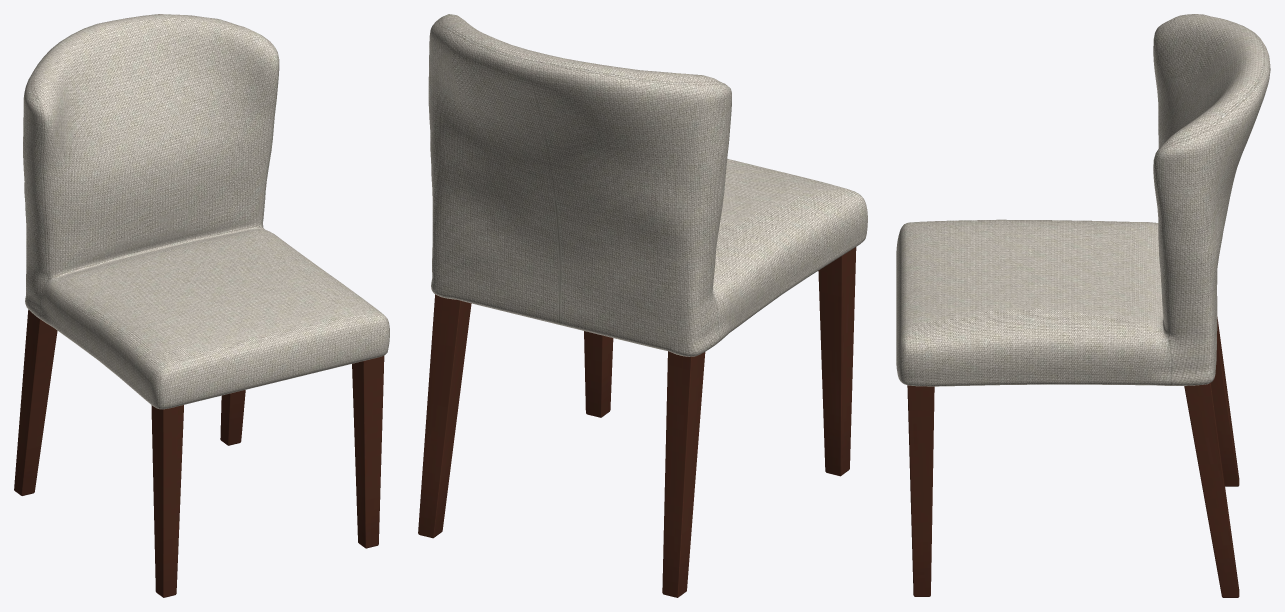
3 views of the same model, side by side, from view 1: azimuth 30°, elevation 25°; view 2: azimuth 150°, elevation 25°; view 3: azimuth 270°, elevation 25° (orthographic). The views are drawn at different scales.
Visible parts, largest first — view 1: RootNode; view 2: RootNode; view 3: RootNode.
Part boxes in pixels (x1,y1,x2,y2): RootNode: (14, 14, 389, 597); RootNode: (418, 14, 867, 597); RootNode: (896, 14, 1270, 597).
Size of the model in its own units: 0.4906 by 0.8395 by 0.5893.
Materials: 1 (1 with a texture image).
